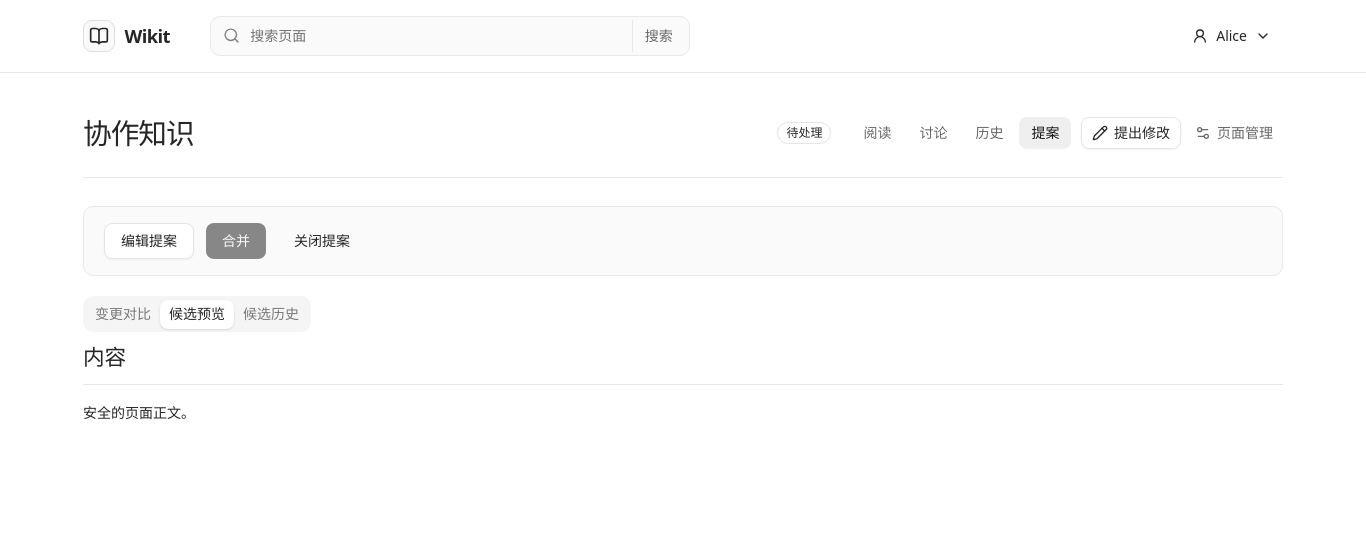
Test case: requires displaying the diff before merging from a preview deep link
Expected: the button "合并" is disabled, [206,223,266,259]
Click the tab "变更对比" at [123, 314], box [86,300,160,329]
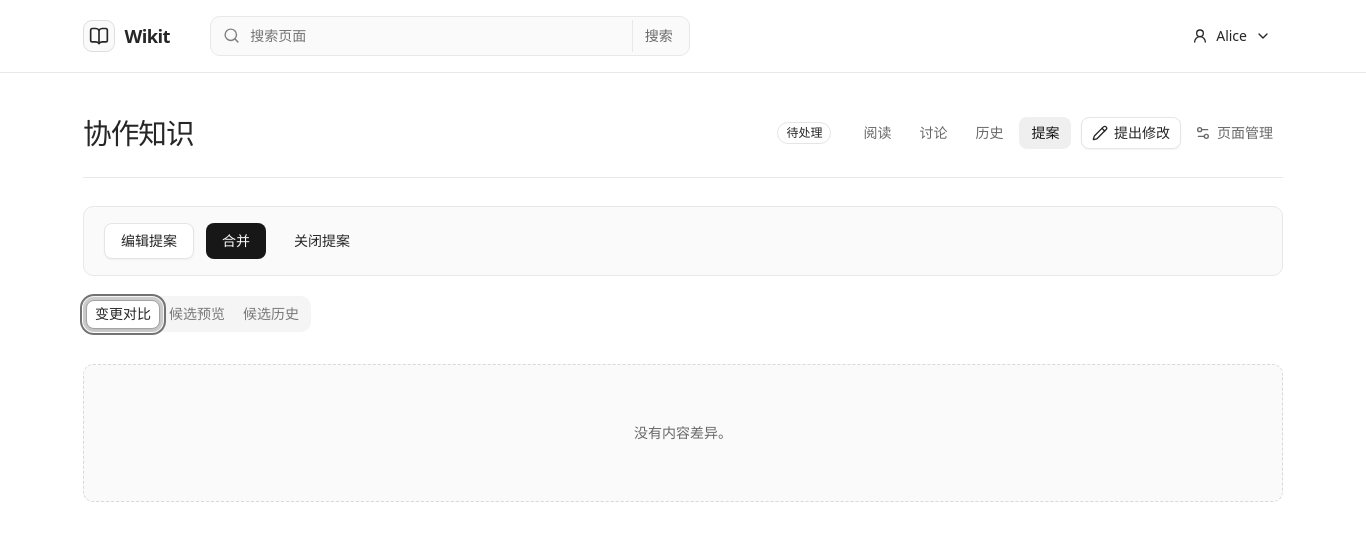
Expected: the button "合并" is enabled, [206,223,266,259]
Click the tab "候选历史" at [271, 314], box [234,300,308,329]
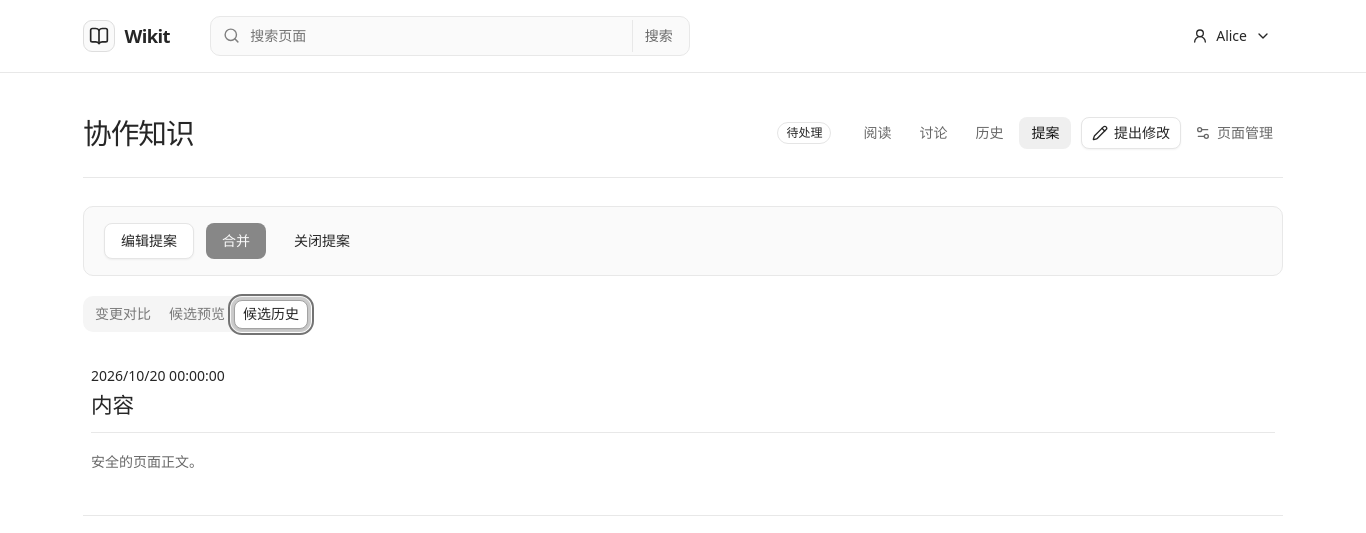
Expected: the button "合并" is disabled, [206,223,266,259]
